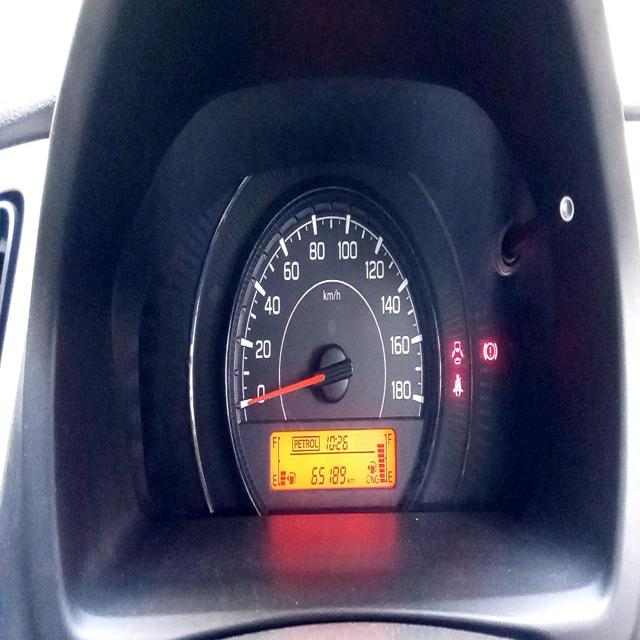odometer: (308, 461, 347, 488)
